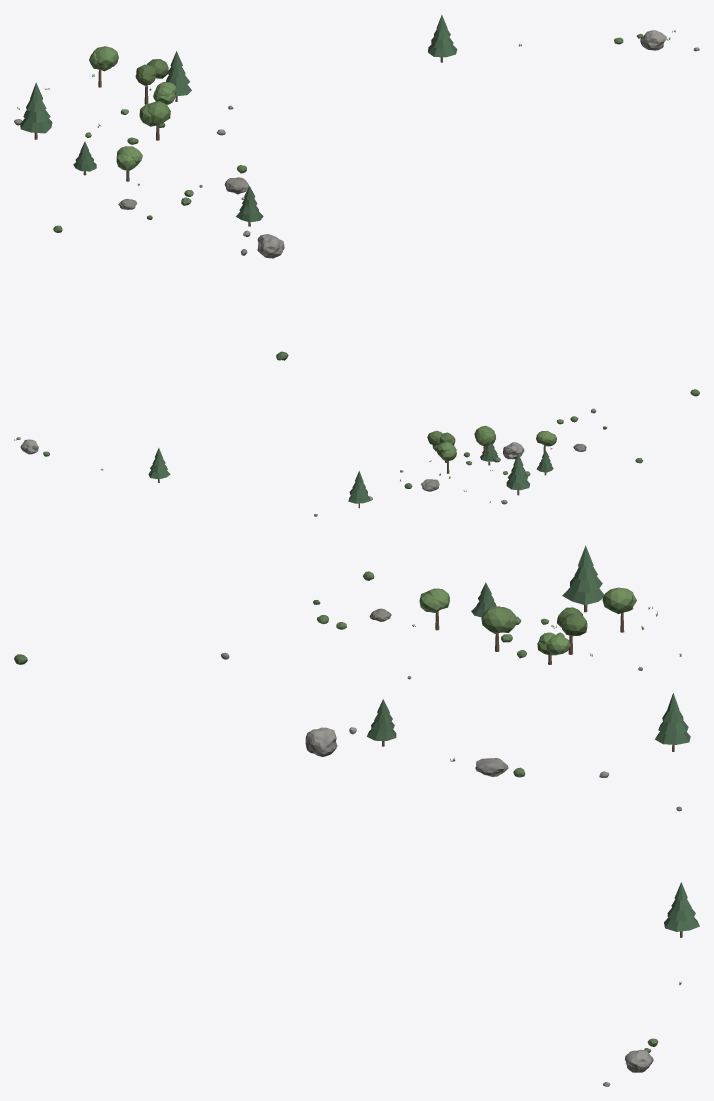
The model's file is arch_land_scatter_c17_19.glb.
3 views of the same model, one above another, from view 1: azimuth 30°, elevation 25°; view 2: azimuth 150°, elevation 25°; view 3: azimuth 270°, elevation 25° (orthographic). The views are drawn at different scales.
Parts seen in each view (by area): view 1: arch_land_scatter_c17_19; view 2: arch_land_scatter_c17_19; view 3: arch_land_scatter_c17_19.
Boxes of the visible parts, x1,y1,x2,y2 form: arch_land_scatter_c17_19: (14, 15, 699, 360); arch_land_scatter_c17_19: (14, 389, 699, 516); arch_land_scatter_c17_19: (14, 545, 699, 1086).
Bounding box in the file's own units: 184 × 34.04 × 126.
